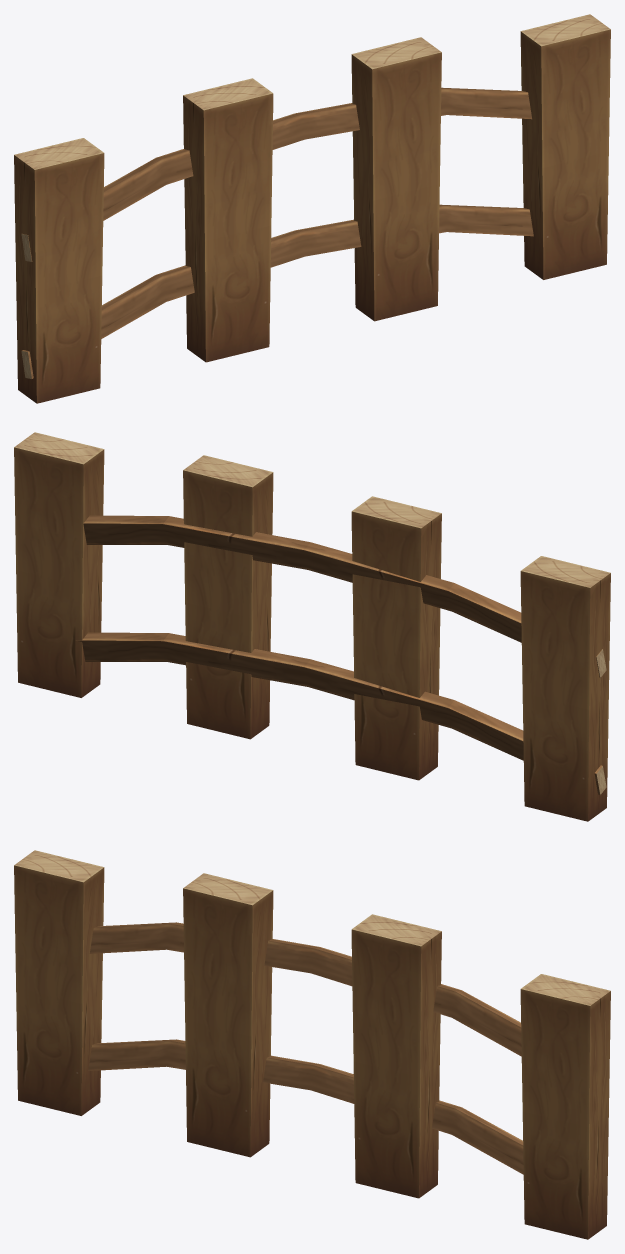
Rendered from wooden_fence_03.fbx.
3 renders of one model, top to bottom at view 1: azimuth 30°, elevation 25°; view 2: azimuth 150°, elevation 25°; view 3: azimuth 330°, elevation 25°, orthographic.
Visible parts, largest first — view 1: wooden_fence_03:Mesh; view 2: wooden_fence_03:Mesh; view 3: wooden_fence_03:Mesh.
Part boxes in pixels (box(x1,y1,x2,y2)): wooden_fence_03:Mesh: box(14, 14, 610, 403); wooden_fence_03:Mesh: box(14, 432, 610, 821); wooden_fence_03:Mesh: box(14, 850, 610, 1239).
Size of the model in its own units: 7.11 by 2.99 by 0.4965.
